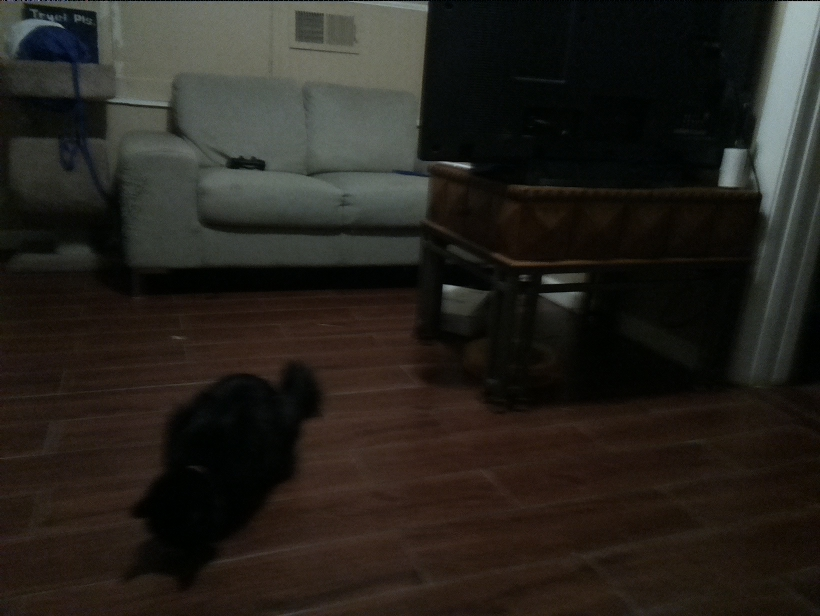cat: (135, 355, 330, 559)
